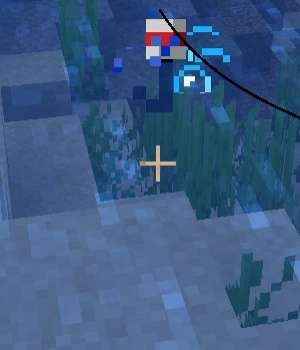up: (131, 12, 195, 115)
